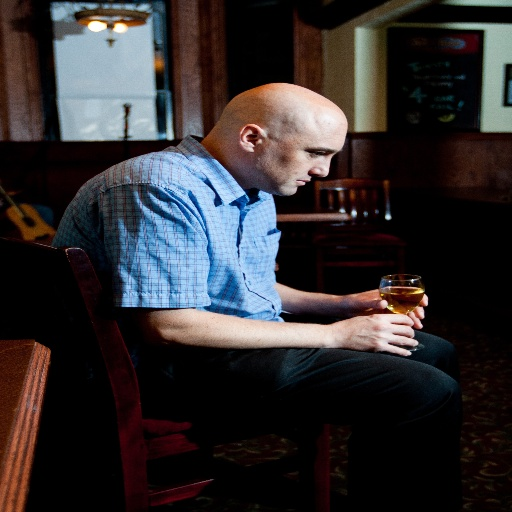hand: (278, 312, 436, 356), (343, 285, 432, 332)
